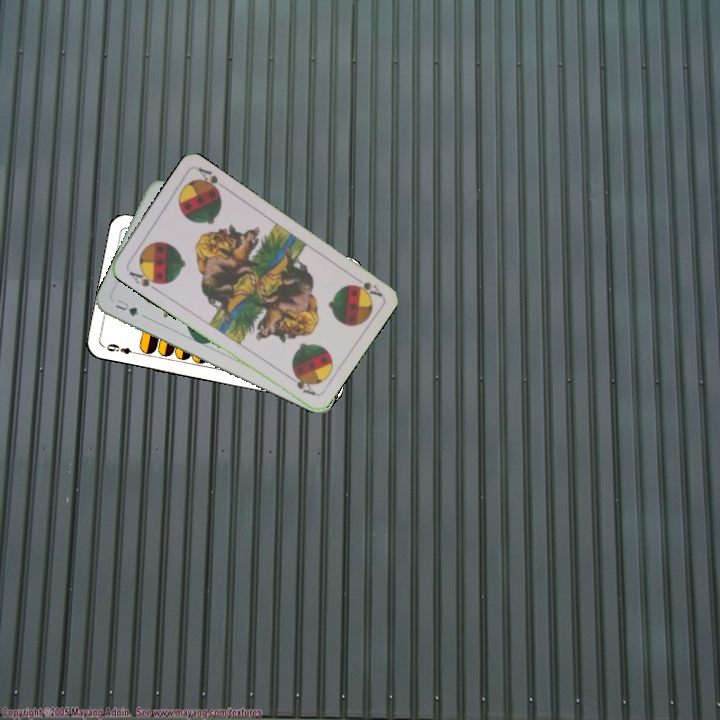E9: (101, 339, 141, 357)
GU: (111, 295, 141, 319)
SA: (125, 266, 163, 293), (348, 277, 385, 300)
